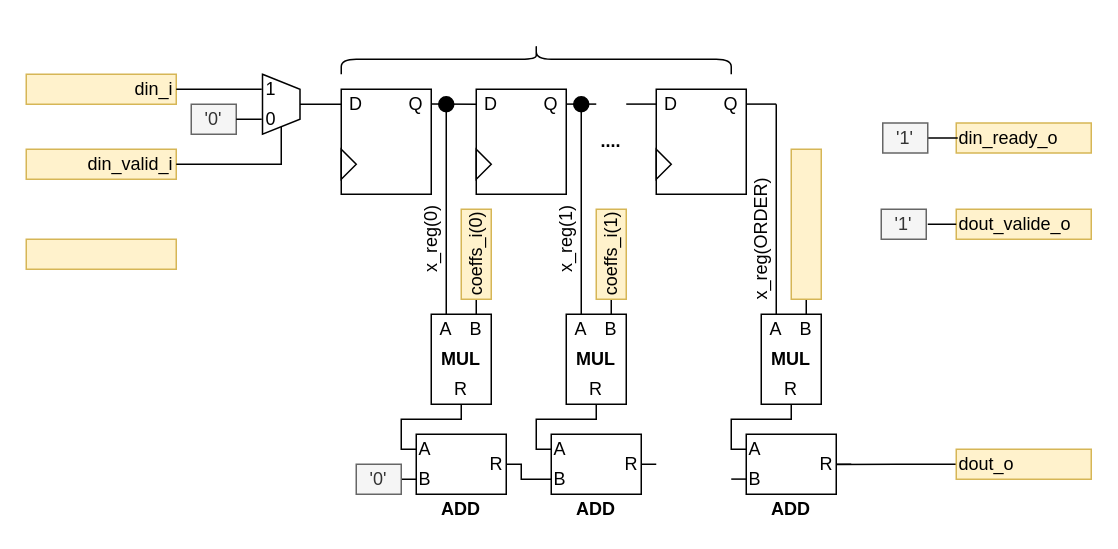
The diagram is 1118 pixels wide and 549 high, and some of its shapes have lost their labels. The shapes that lost their labels are listed below. From the top down, each one's centre as x and y in pixels, then its label:
At point (535, 58): "ORDER +1".
At point (805, 223): "coeffs_i(ORDER)".
At point (100, 253): "dout_ready_i".
